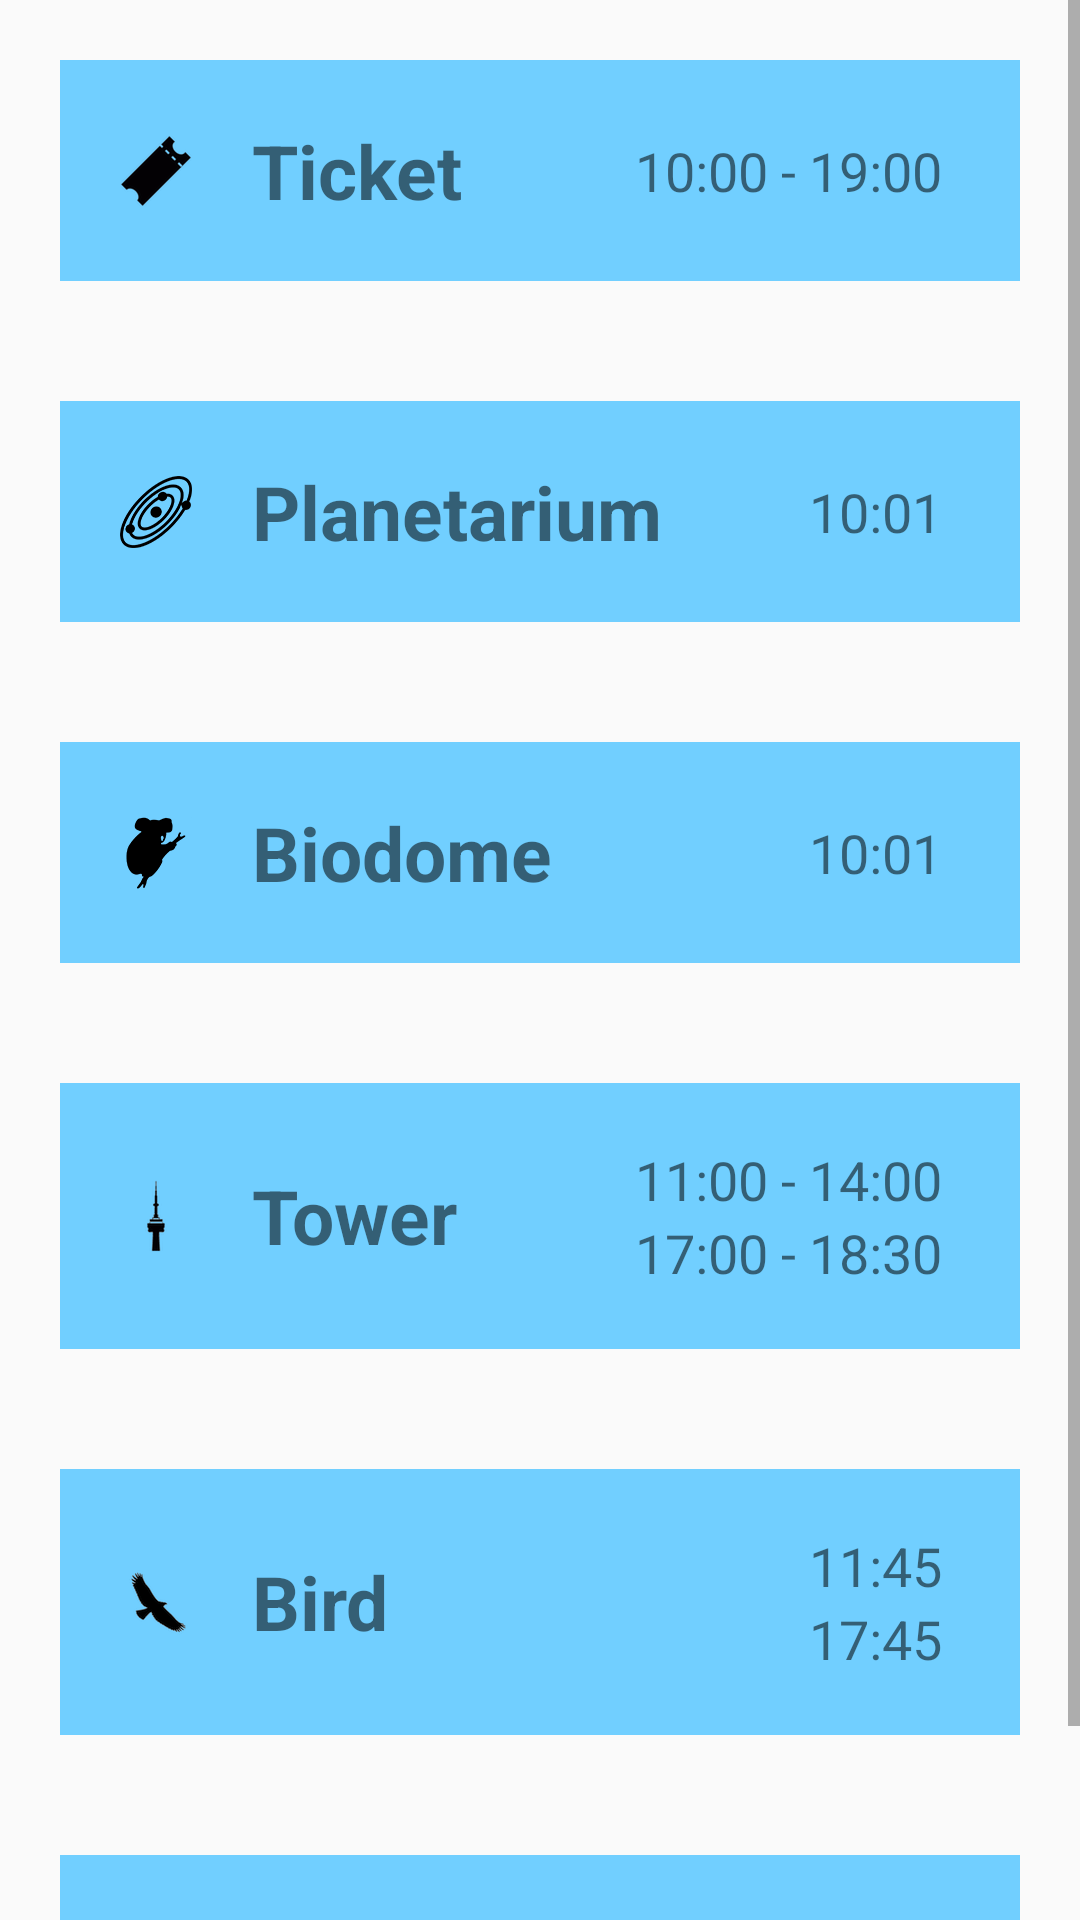

Screen size 1080 × 1920. Icon name, then its box in pixels as bbox(x1, y1, x2, y2):
ave: bbox(131, 1572, 186, 1632)
entrada: bbox(121, 136, 191, 206)
torre: bbox(147, 1181, 165, 1251)
